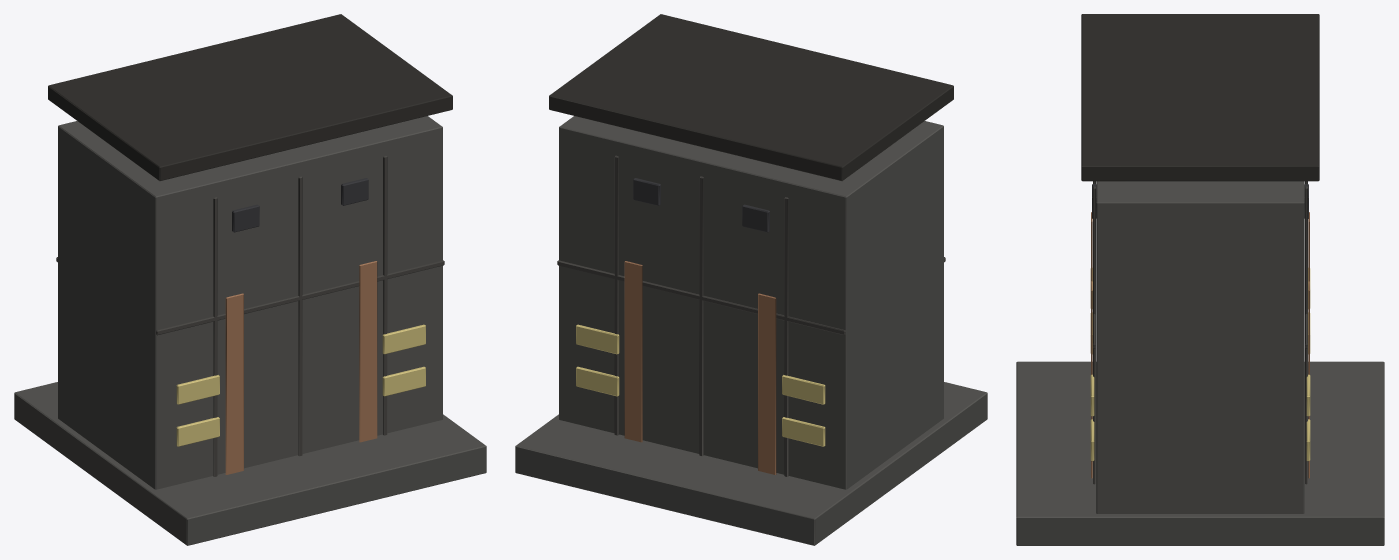
File: wall_steel_a.glb
3 views of the same model, side by side, from view 1: azimuth 30°, elevation 25°; view 2: azimuth 150°, elevation 25°; view 3: azimuth 270°, elevation 25° (orthographic). The views are drawn at different scales.
Visible parts, largest first — view 1: WallSteelA; view 2: WallSteelA; view 3: WallSteelA.
Boxes of the visible parts, box(x1,y1,x2,y2) form: WallSteelA: box(14, 14, 486, 545); WallSteelA: box(515, 14, 987, 545); WallSteelA: box(1016, 14, 1384, 545).
Size of the model in its own units: 3.88 by 4.4 by 3.88.
